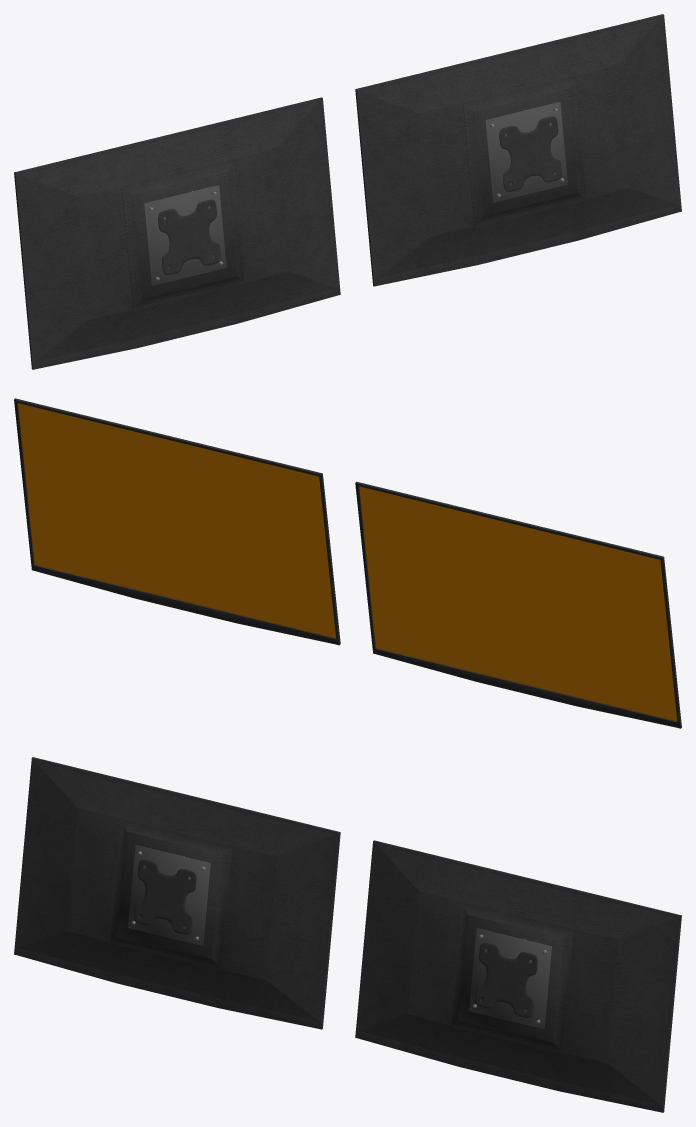
Rendered from CIC_BigTV.fbx.
3 views of the same model, one above another, from view 1: azimuth 30°, elevation 25°; view 2: azimuth 150°, elevation 25°; view 3: azimuth 330°, elevation 25° (orthographic).
Visible parts, largest first — view 1: CIC_TV.003, CIC_TV.004; view 2: CIC_TV.004, CIC_TV.003; view 3: CIC_TV.004, CIC_TV.003.
Boxes of the visible parts, <box> form: CIC_TV.003: <box>355,14,681,286</box>; CIC_TV.004: <box>14,97,340,369</box>; CIC_TV.004: <box>355,481,681,728</box>; CIC_TV.003: <box>14,398,340,645</box>; CIC_TV.004: <box>14,757,340,1029</box>; CIC_TV.003: <box>355,840,681,1112</box>.
Bounding box in the file's own units: 5.71 × 1.58 × 0.3765.
